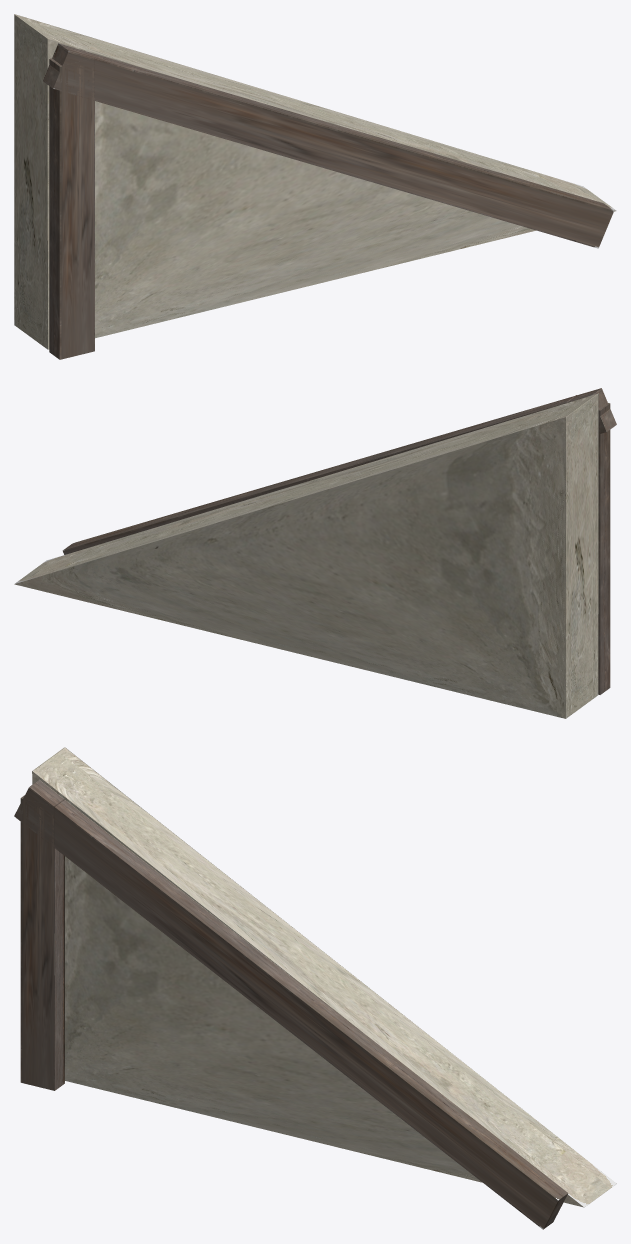
File: pared_1_punta_L.fbx
3 renders of one model, top to bottom at view 1: azimuth 30°, elevation 25°; view 2: azimuth 150°, elevation 25°; view 3: azimuth 330°, elevation 25°, orthographic. The views are drawn at different scales.
Visible parts, largest first — view 1: pared_1_punta_L; view 2: pared_1_punta_L; view 3: pared_1_punta_L.
Boxes of the visible parts, x1=… form: pared_1_punta_L: x1=14, y1=14, x2=616, y2=359; pared_1_punta_L: x1=14, y1=388, x2=616, y2=718; pared_1_punta_L: x1=14, y1=747, x2=616, y2=1229.
Bounding box in the file's own units: 404 × 223 × 55.44.
